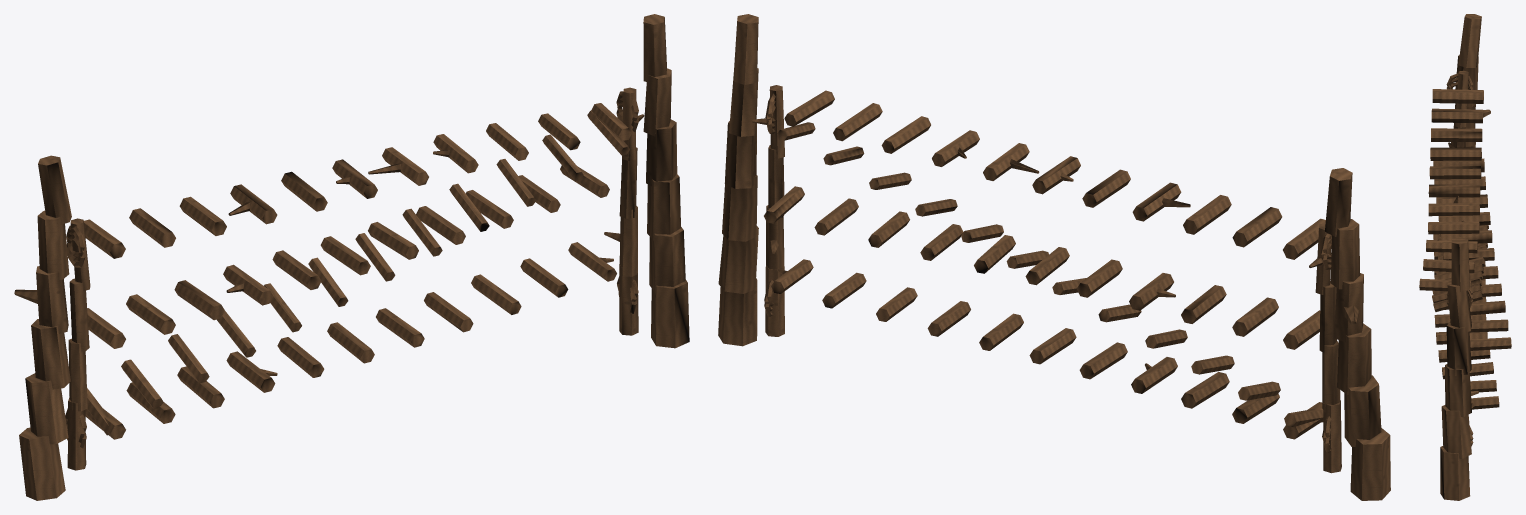
Rendered from gate.glb.
3 views of the same model, side by side, from view 1: azimuth 30°, elevation 25°; view 2: azimuth 150°, elevation 25°; view 3: azimuth 270°, elevation 25° (orthographic). The views are drawn at different scales.
Parts seen in each view (by area): view 1: gate; view 2: gate; view 3: gate.
Boxes of the visible parts, bbox=[...] form: gate: bbox=[14, 14, 689, 500]; gate: bbox=[718, 14, 1390, 500]; gate: bbox=[1419, 14, 1511, 500].
Size of the model in its own units: 4.19 by 1.96 by 0.6527.
Materials: 1 (1 with a texture image).
